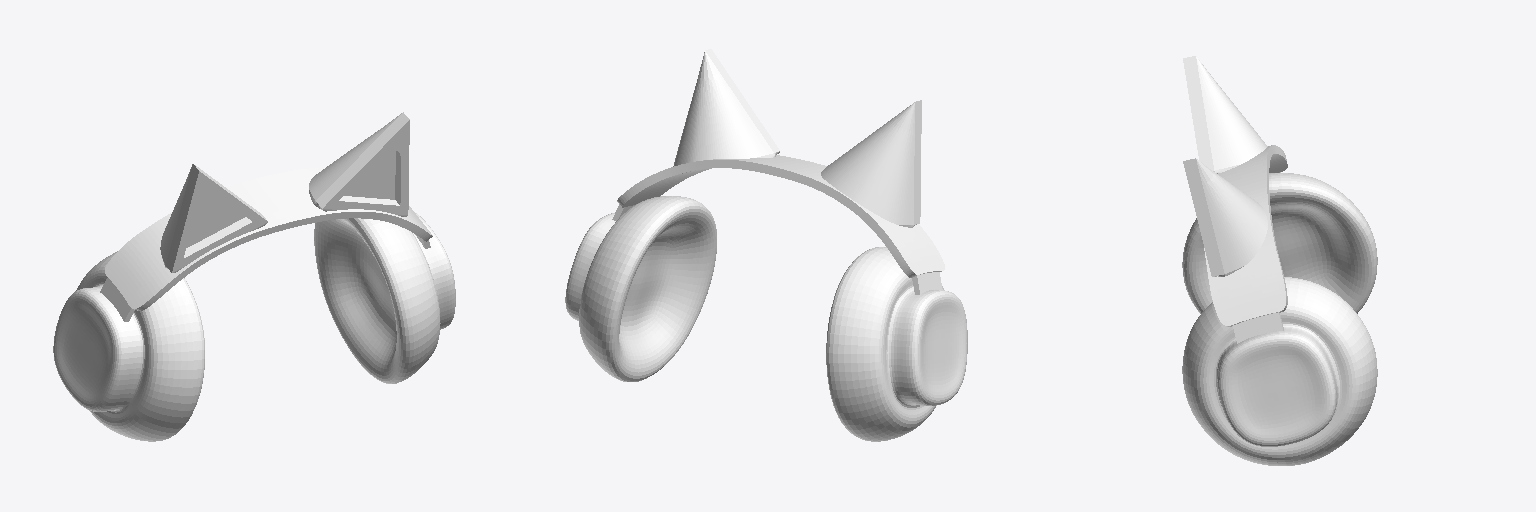
File: HeadPhones_Hipoly.obj
3 renders of one model, left to right at view 1: azimuth 30°, elevation 25°; view 2: azimuth 150°, elevation 25°; view 3: azimuth 270°, elevation 25°, orthographic.
Parts seen in each view (by area): view 1: obj2, obj3, obj4, obj0, obj1, obj6; view 2: obj3, obj2, obj1, obj4, obj0; view 3: obj3, obj2, obj4, obj0, obj1, obj5.
Part boxes in pixels (x1,y1,x2,y2): obj2: (53,251,204,441); obj3: (314,213,455,383); obj4: (105,168,432,310); obj0: (309,112,409,216); obj1: (160,164,267,272); obj6: (100,278,134,321); obj3: (565,196,716,381); obj2: (826,247,967,441); obj1: (821,100,921,227); obj4: (617,155,944,277); obj0: (673,49,779,173); obj3: (1182,277,1377,465); obj2: (1182,173,1377,313); obj4: (1204,145,1287,326); obj0: (1183,158,1267,276); obj1: (1183,56,1267,173); obj5: (1233,312,1283,343).
Bounding box in the file's own units: 113 × 89.29 × 53.03.